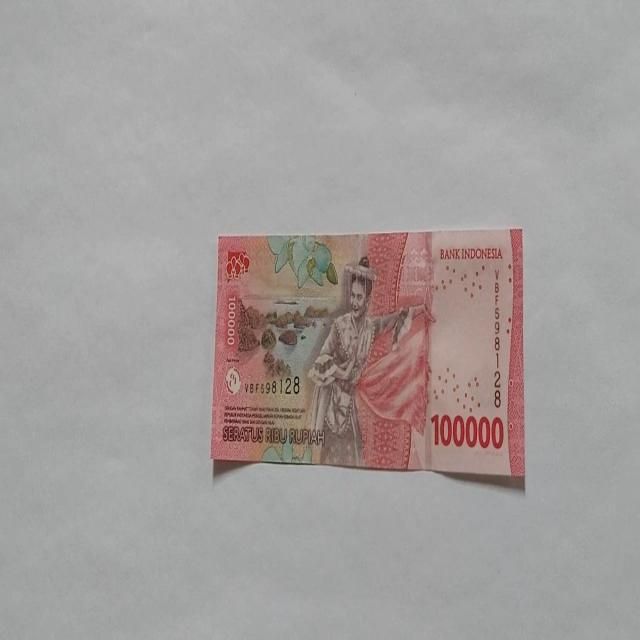Kertas: (210, 228, 524, 481), (430, 410, 504, 450)
